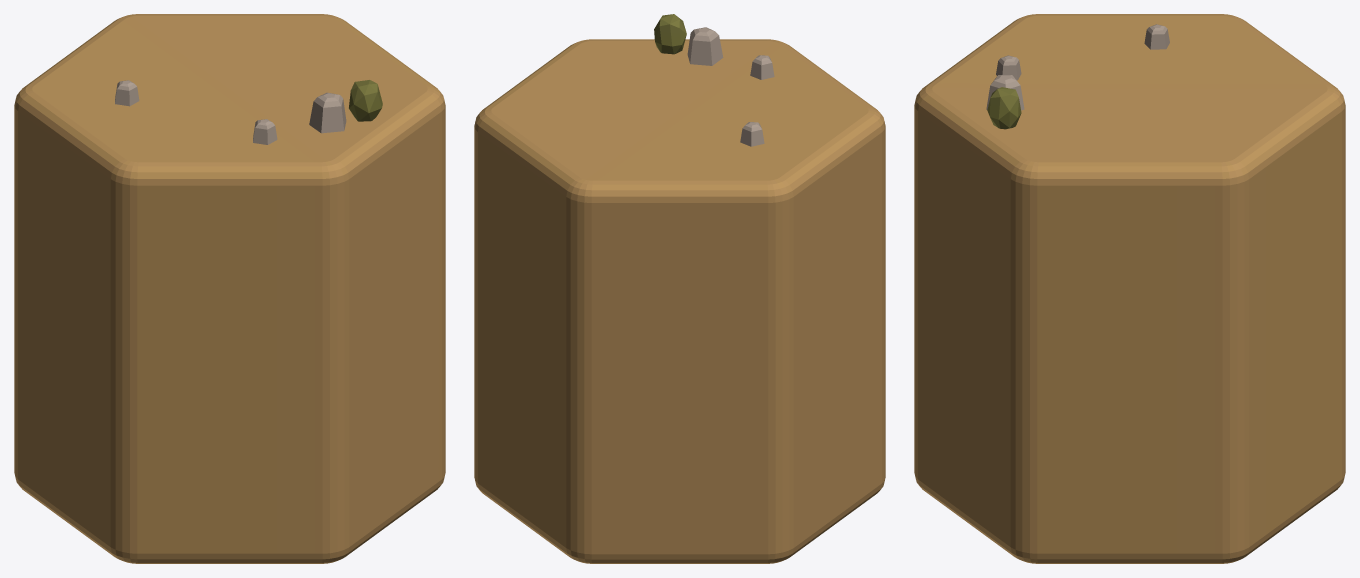
File: Hex-desert1.glb
The picture shows the model from 3 angles, left to right: view 1: azimuth 30°, elevation 25°; view 2: azimuth 150°, elevation 25°; view 3: azimuth 270°, elevation 25°; orthographic projection. The views are drawn at different scales.
Parts seen in each view (by area): view 1: Cylinder, Cylinder.153_Material.001_0, Sphere.028_Material.001_0, Cylinder.155_Material.001_0, Cylinder.157_Material.001_0; view 2: Cylinder, Cylinder.153_Material.001_0, Sphere.028_Material.001_0; view 3: Cylinder, Sphere.028_Material.001_0, Cylinder.155_Material.001_0.
Boxes of the visible parts, <box> form: Cylinder: <box>14,14,445,563</box>; Cylinder.153_Material.001_0: <box>309,92,346,133</box>; Sphere.028_Material.001_0: <box>349,80,382,121</box>; Cylinder.155_Material.001_0: <box>115,80,139,106</box>; Cylinder.157_Material.001_0: <box>253,119,277,144</box>; Cylinder: <box>474,39,885,563</box>; Cylinder.153_Material.001_0: <box>687,27,723,65</box>; Sphere.028_Material.001_0: <box>654,14,686,54</box>; Cylinder: <box>914,14,1345,563</box>; Sphere.028_Material.001_0: <box>987,87,1021,129</box>; Cylinder.155_Material.001_0: <box>1144,24,1169,49</box>.
Bounding box in the file's own units: 1.73 × 2.18 × 1.95.
Materials: 2 (2 with a texture image).
